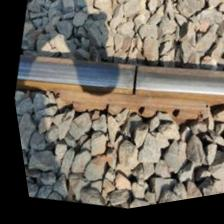person: (101, 52, 162, 116)
